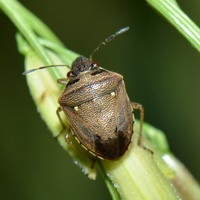insect: (23, 36, 148, 166)
